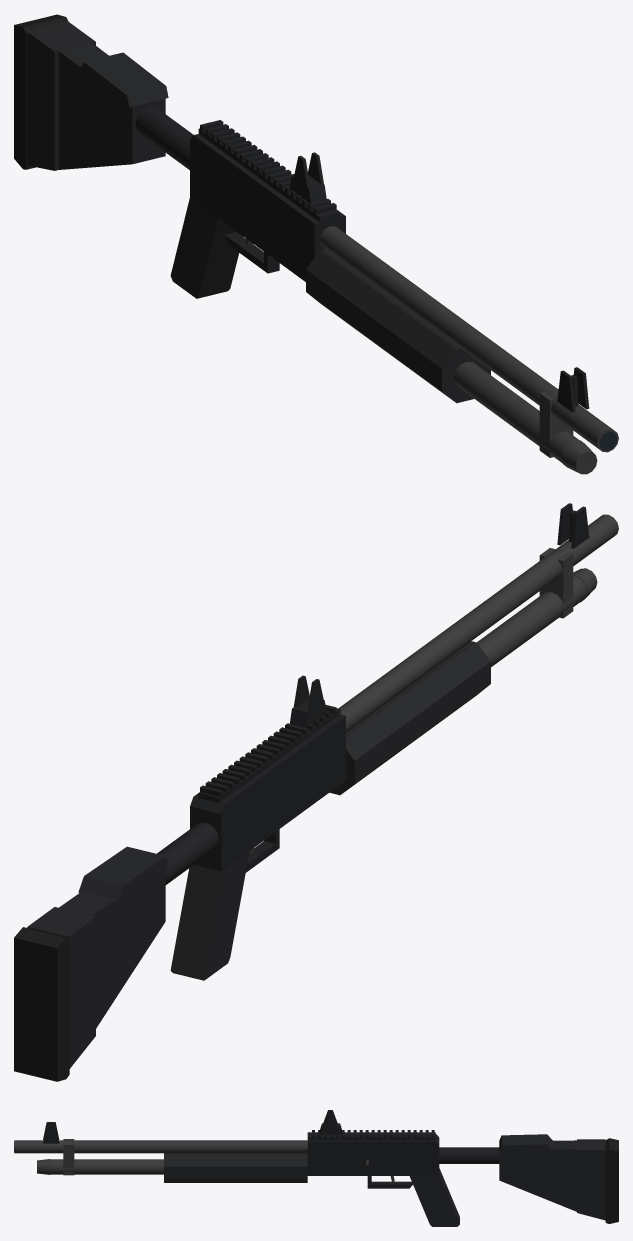
File: shotgun-semi.glb
The picture shows the model from 3 angles, top to bottom: view 1: azimuth 30°, elevation 25°; view 2: azimuth 150°, elevation 25°; view 3: azimuth 270°, elevation 25°; orthographic projection. The views are drawn at different scales.
Parts seen in each view (by area): view 1: shotgun-semi; view 2: shotgun-semi; view 3: shotgun-semi.
Boxes of the visible parts, bbox=[...] form: shotgun-semi: bbox=[14, 14, 618, 474]; shotgun-semi: bbox=[14, 503, 618, 1081]; shotgun-semi: bbox=[14, 1110, 618, 1226].
Bounding box in the file's own units: 0.05 × 0.204 × 1.01.
Materials: 1 (1 with a texture image).
